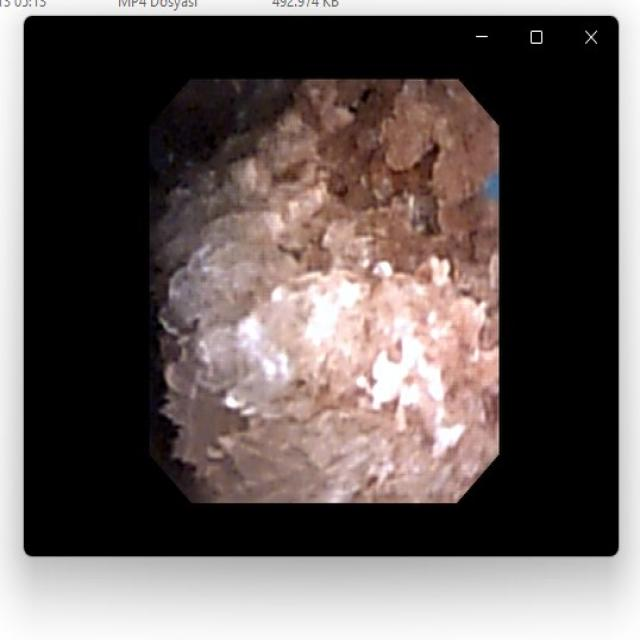stone: (158, 83, 491, 496)
